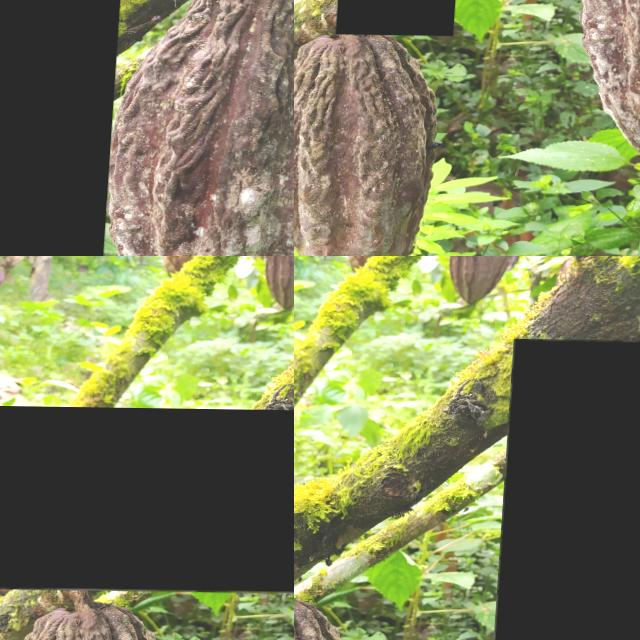Fitoftora: (0, 405, 294, 593), (493, 337, 640, 640), (0, 0, 128, 256), (341, 0, 466, 35)
